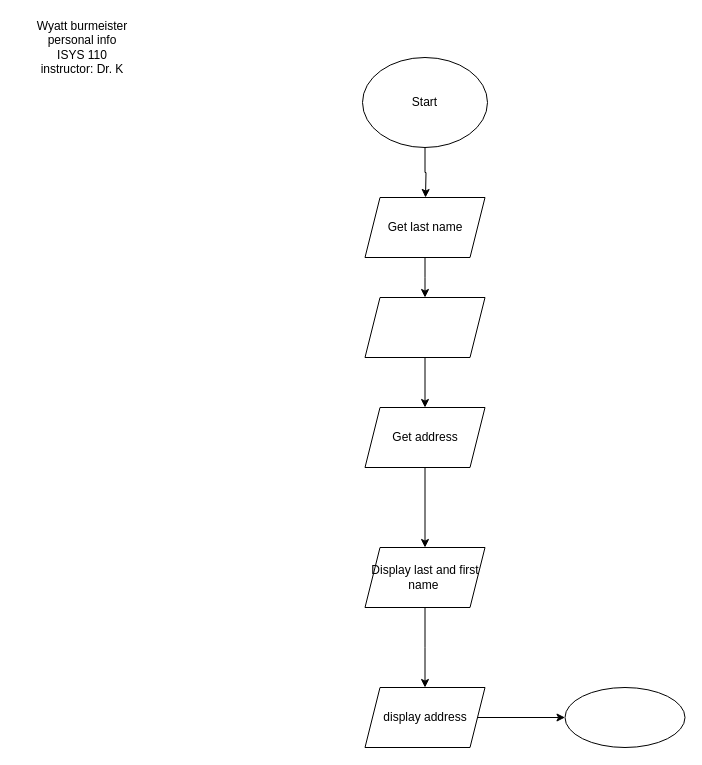
Image size: 702x765. Some labels were removed from this diagram. Each missing label, with the centre of its shape:
"end" goes at [624,717].
"Get first name" goes at [424,327].
